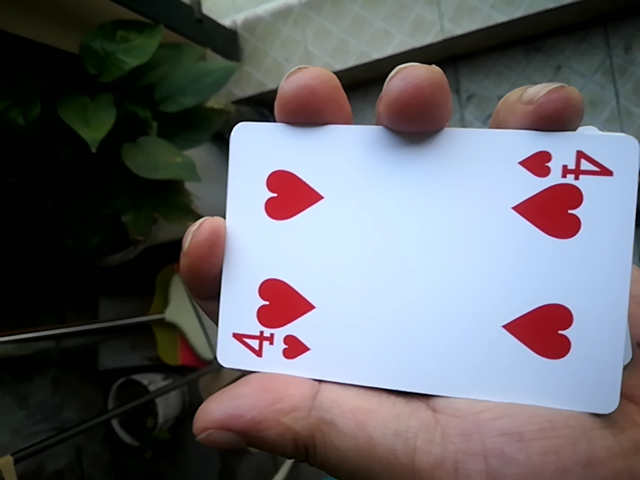hx 4: (208, 117, 636, 395)
